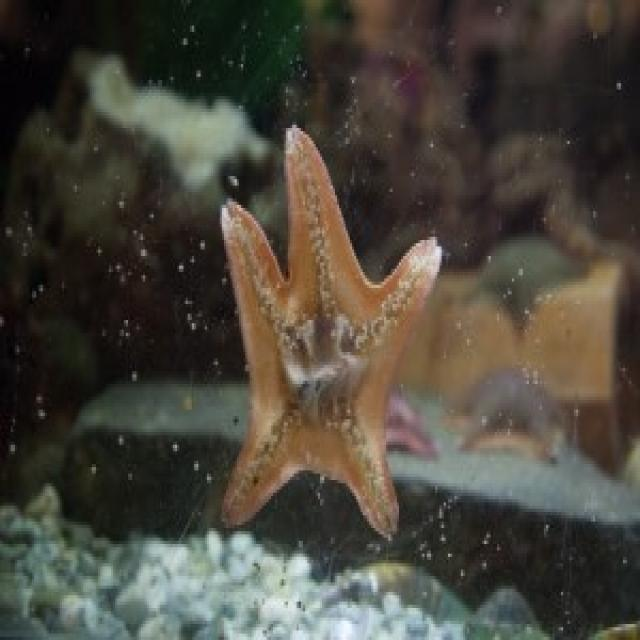Starfish: (209, 119, 442, 546)
